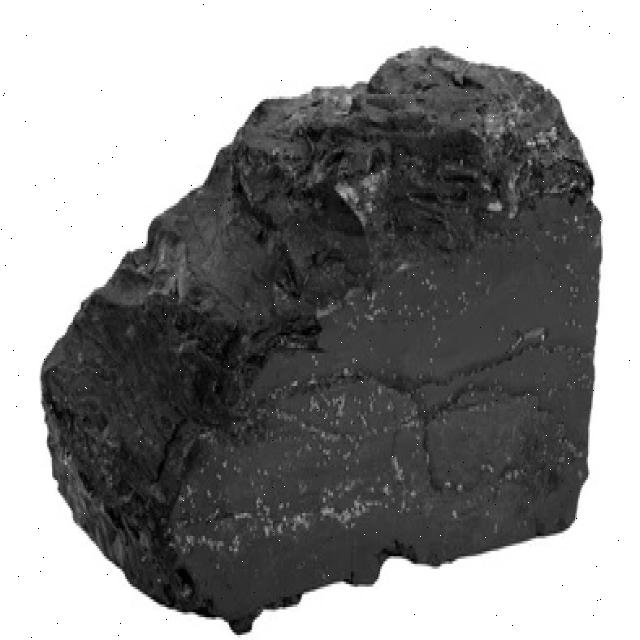Sedimentary: (47, 41, 599, 622)
